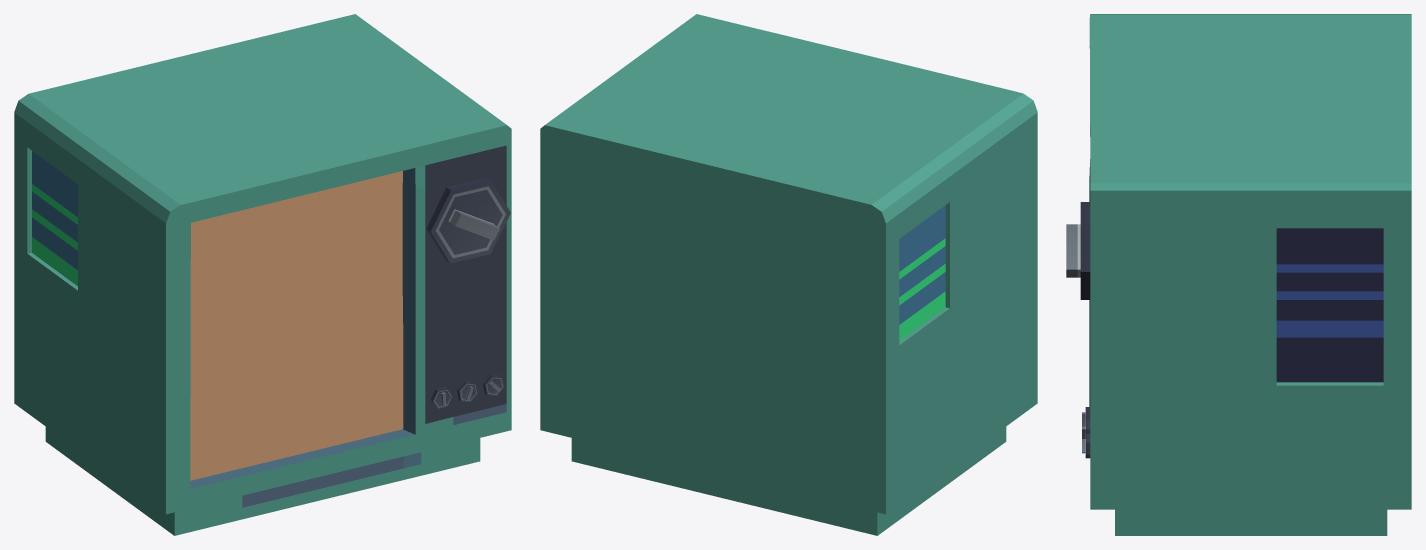
Rendered from Prop_TV06.fbx.
3 views of the same model, side by side, from view 1: azimuth 30°, elevation 25°; view 2: azimuth 150°, elevation 25°; view 3: azimuth 270°, elevation 25° (orthographic). The views are drawn at different scales.
Parts seen in each view (by area): view 1: Cube.432; view 2: Cube.432; view 3: Cube.432.
Part boxes in pixels (x1,y1,x2,y2): Cube.432: (14,14,511,535); Cube.432: (540,14,1037,535); Cube.432: (1066,14,1411,535).
Size of the model in its own units: 55.14 by 51.95 by 45.12.
